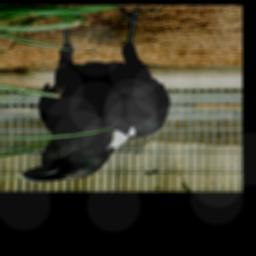Crow: (14, 6, 169, 183)
